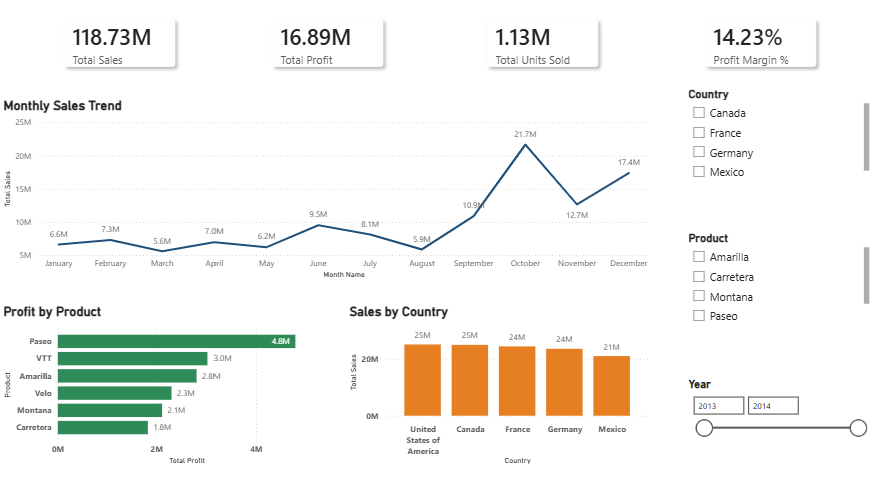

This screenshot's page, from the dashboard's own definition file:
{"tool":"powerbi","page":{"name":"Sales Performance Dashboard","canvas":[1280,720],"ordinal":0},"visuals":[{"type":"cardVisual","fields":{"Data":["_Measures.Total Sales"]},"box":[64.2,0,222.4,129.9],"z":0},{"type":"cardVisual","fields":{"Data":["_Measures.Total Profit"]},"box":[368.7,0,222.4,129.9],"z":1},{"type":"cardVisual","fields":{"Data":["_Measures.Total Units Sold"]},"box":[685.1,0,222.4,129.9],"z":2},{"type":"cardVisual","fields":{"Data":["_Measures.Profit Margin %"]},"box":[1004.5,0,222.4,129.9],"z":3},{"type":"lineChart","title":"Monthly Sales Trend","fields":{"Category":["DateTable.Month Name"],"Y":["_Measures.Total Sales"]},"box":[0,146.3,959.7,270.1],"z":4},{"type":"clusteredColumnChart","title":"Sales by Country","fields":{"Category":["financials.Country"],"Y":["_Measures.Total Sales"]},"box":[507.5,449.3,452.2,240.3],"z":5},{"type":"clusteredBarChart","title":"Profit by Product","fields":{"Y":["_Measures.Total Profit"],"Category":["financials.Product"]},"box":[0,449.3,480.6,240.3],"z":6},{"type":"slicer","title":"Country","fields":{"Values":["financials.Country"]},"box":[1004.5,129.9,276.1,149.3],"z":7},{"type":"slicer","title":"Product","fields":{"Values":["financials.Product"]},"box":[1004.5,341.8,276.1,149.3],"z":8},{"type":"slicer","title":"Year","fields":{"Values":["DateTable.Year"]},"box":[1004.5,555.2,276.1,150.7],"z":9}]}

Visuals, with their boxes in screenshot pixels (x1, y1, x2, y2), scaled from the page's 1280x720 canvas onto the 873x479 screenshot:
cardVisual - _Measures.Total Sales: [left=44, top=0, right=195, bottom=86]
cardVisual - _Measures.Total Profit: [left=251, top=0, right=403, bottom=86]
cardVisual - _Measures.Total Units Sold: [left=467, top=0, right=619, bottom=86]
cardVisual - _Measures.Profit Margin %: [left=685, top=0, right=837, bottom=86]
"Monthly Sales Trend" lineChart: [left=0, top=97, right=655, bottom=277]
"Sales by Country" clusteredColumnChart: [left=346, top=299, right=655, bottom=459]
"Profit by Product" clusteredBarChart: [left=0, top=299, right=328, bottom=459]
"Country" slicer: [left=685, top=86, right=872, bottom=186]
"Product" slicer: [left=685, top=227, right=872, bottom=327]
"Year" slicer: [left=685, top=369, right=872, bottom=470]
